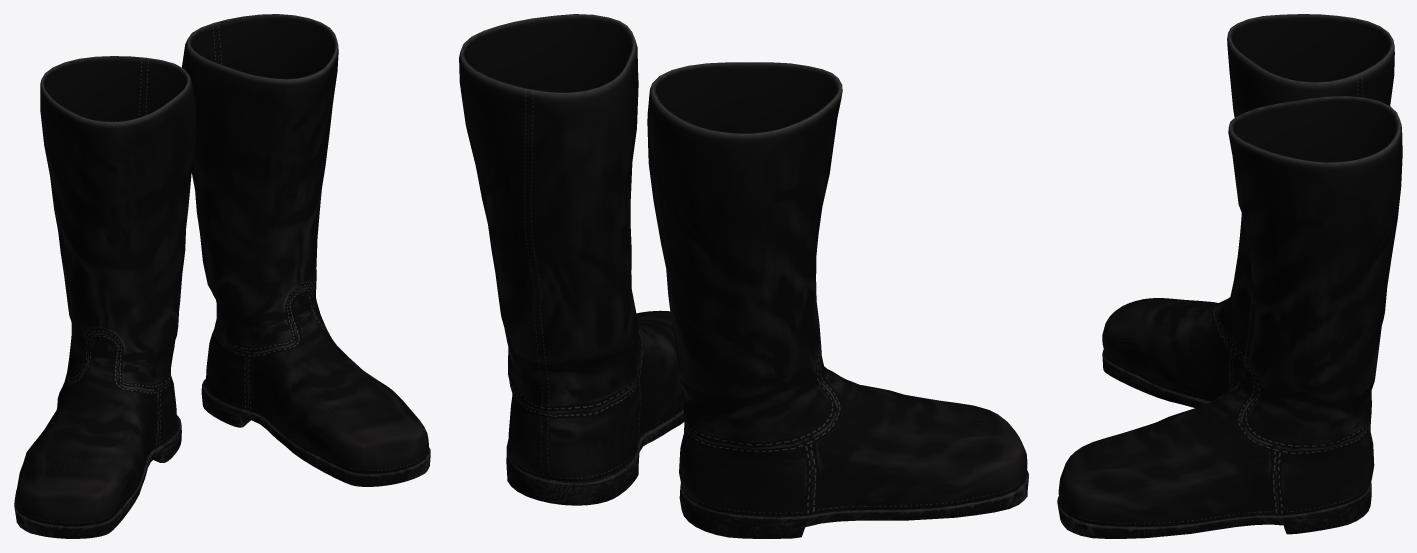
3 renders of one model, left to right at view 1: azimuth 30°, elevation 25°; view 2: azimuth 150°, elevation 25°; view 3: azimuth 270°, elevation 25°, orthographic. The views are drawn at different scales.
Parts seen in each view (by area): view 1: KIRZACH_L__0, KIRZACH_R; view 2: KIRZACH_R, KIRZACH_L__0; view 3: KIRZACH_L__0, KIRZACH_R.
Boxes of the visible parts, x1,y1,x2,y2 form: KIRZACH_L__0: (182,14,430,486); KIRZACH_R: (14,56,196,538); KIRZACH_R: (647,62,1028,538); KIRZACH_L__0: (459,14,684,505); KIRZACH_L__0: (1057,96,1402,538); KIRZACH_R: (1102,14,1394,408).
Bounding box in the file's own units: 46.5 × 40.82 × 33.38.
Materials: 1 (1 with a texture image).
